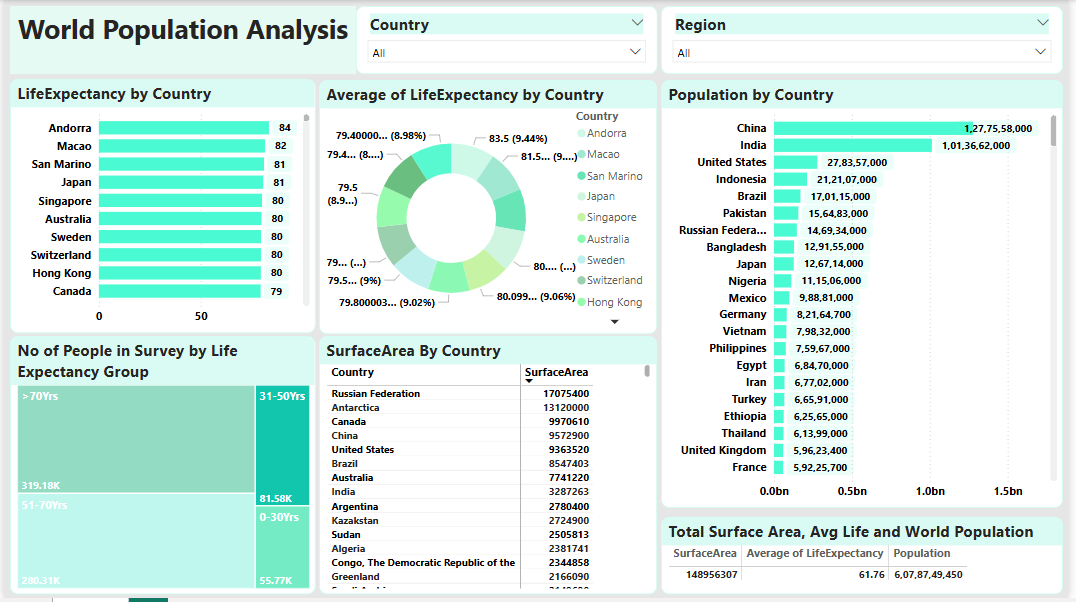

What the dashboard file says about the page in this screenshot:
{"tool":"powerbi","page":{"name":"Page 1","canvas":[1280,720],"ordinal":0},"visuals":[{"type":"clusteredBarChart","fields":{"Y":["Sum(World Population.Population)"],"Category":["World Population.Country"]},"box":[790.7,96.2,483.8,514.9],"z":0},{"type":"clusteredBarChart","fields":{"Y":["Sum(World Population.LifeExpectancy)"],"Category":["World Population.Country"]},"box":[7.1,94.8,367.8,305.5],"z":1000},{"type":"tableEx","title":"SurfaceArea By Country","fields":{"Values":["World Population.Country","World Population.SurfaceArea"]},"box":[379.6,404.8,406.5,310.8],"z":2000},{"type":"slicer","fields":{"Values":["World Population.Region"]},"box":[791.2,6.7,483.8,82.3],"z":3000},{"type":"slicer","fields":{"Values":["World Population.Country"]},"box":[423.3,6.7,362.8,82.3],"z":4000},{"type":"textbox","box":[6.7,6.7,416.6,82.3],"z":5000},{"type":"treemap","fields":{"Group":["World Population.Life Expectancy Group"],"Values":["Sum(World Population.No of People in Survey)"]},"box":[7,405,368,311],"z":6000},{"type":"donutChart","fields":{"Category":["World Population.Country"],"Y":["Avg(World Population.LifeExpectancy)"]},"box":[379.6,95.7,406.5,305.7],"z":7000},{"type":"tableEx","title":"Total Surface Area, Avg Life and World Population","fields":{"Values":["Sum(World Population.SurfaceArea)","Avg(World Population.LifeExpectancy)","Sum(World Population.Population)"]},"box":[790.7,622.4,483.8,93.4],"z":8000}]}

Visuals, with their boxes in screenshot pixels (x1, y1, x2, y2), scaled from the page's 1280x720 canvas onto the 1076x602 screenshot:
clusteredBarChart - Sum(World Population.Population) x World Population.Country: BBox(665, 80, 1071, 511)
clusteredBarChart - Sum(World Population.LifeExpectancy) x World Population.Country: BBox(6, 79, 315, 335)
"SurfaceArea By Country" tableEx: BBox(319, 338, 661, 598)
slicer - World Population.Region: BBox(665, 6, 1072, 74)
slicer - World Population.Country: BBox(356, 6, 661, 74)
textbox: BBox(6, 6, 356, 74)
treemap - World Population.Life Expectancy Group x Sum(World Population.No of People in Survey): BBox(6, 339, 315, 599)
donutChart - World Population.Country x Avg(World Population.LifeExpectancy): BBox(319, 80, 661, 336)
"Total Surface Area, Avg Life and World Population" tableEx: BBox(665, 520, 1071, 598)
